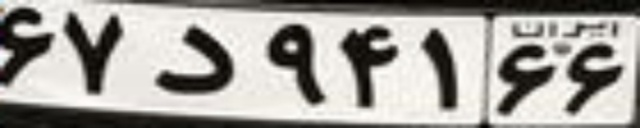1: (416, 26, 458, 107)
4: (335, 25, 400, 107)
6: (493, 44, 556, 114), (0, 6, 53, 86), (561, 42, 621, 112)
7: (65, 11, 131, 96)
9: (267, 22, 330, 104)
dal: (149, 25, 235, 94)
